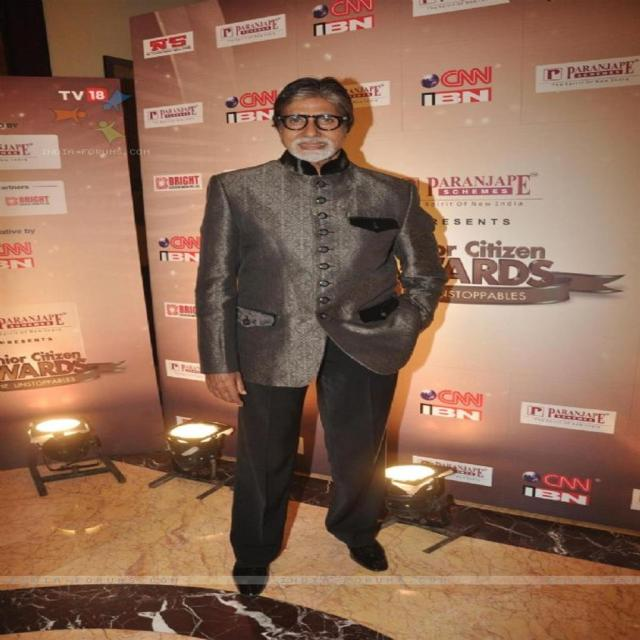Face: (273, 97, 356, 162)
